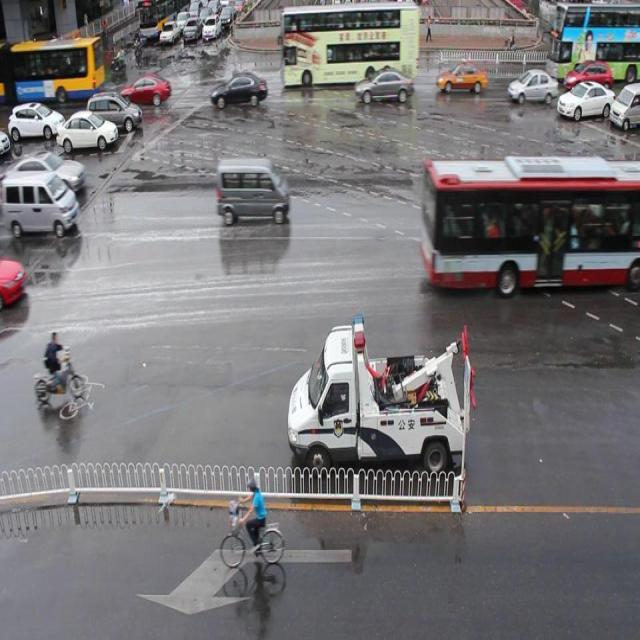car: (556, 80, 616, 124), (210, 70, 269, 108), (354, 68, 411, 106), (562, 58, 612, 97), (506, 69, 556, 105), (436, 62, 488, 94)
truck: (217, 157, 289, 222)
van: (419, 158, 640, 283), (279, 1, 418, 83)
